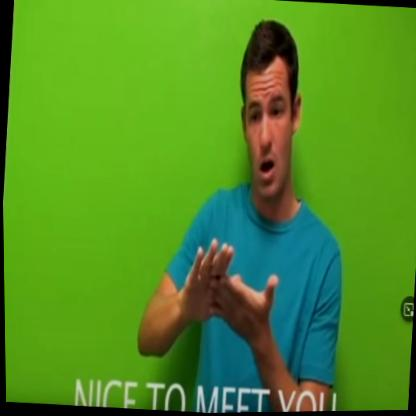NiceToMeetYou: (157, 231, 288, 366)
